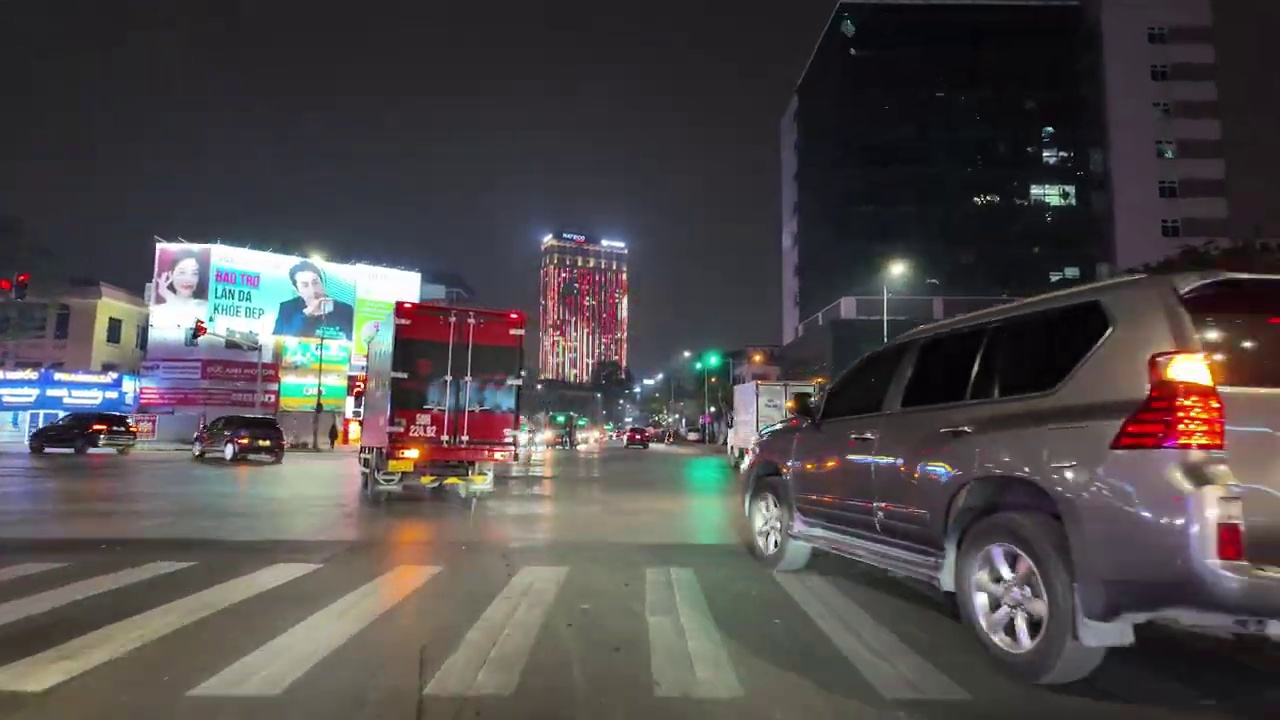acesa: (877, 253, 917, 292), (882, 257, 913, 286)
